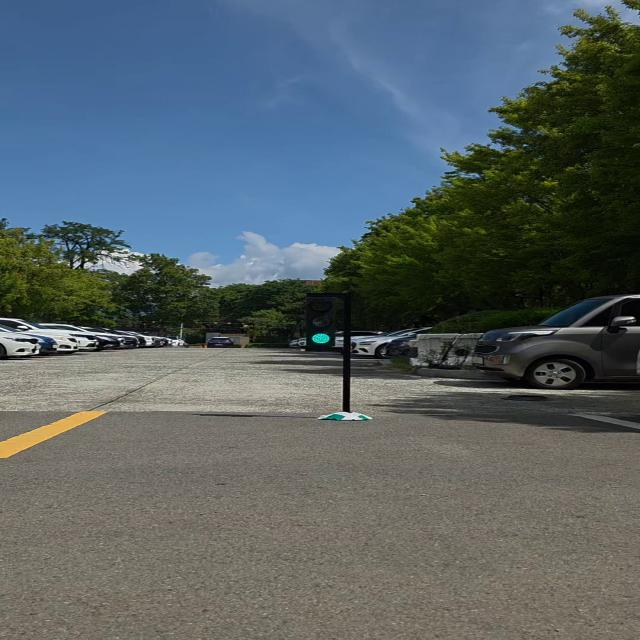green: (301, 295, 336, 352)
